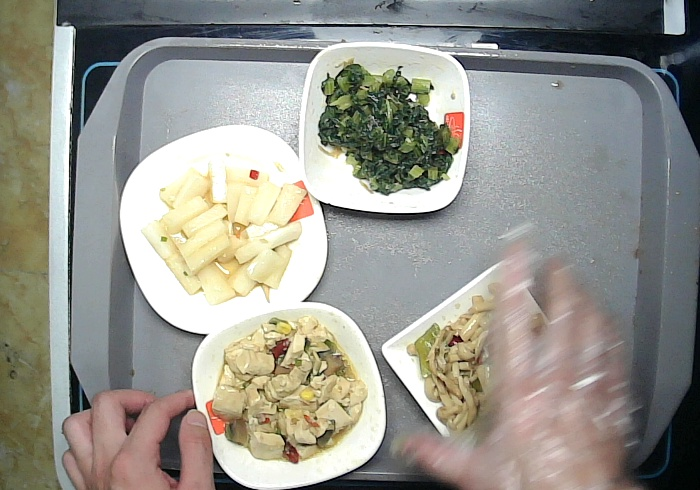SHKJ-Bai_Se_Cai_Die: (189, 300, 387, 490)
SHKJ-Bai_Se_Si_Fang_Cai_Die: (116, 122, 331, 335)
SHKJ-Bai_Se_Xiao_Fang_Die: (295, 38, 473, 216)
SHKJ-Si_Fang_Min: (379, 256, 558, 439)
